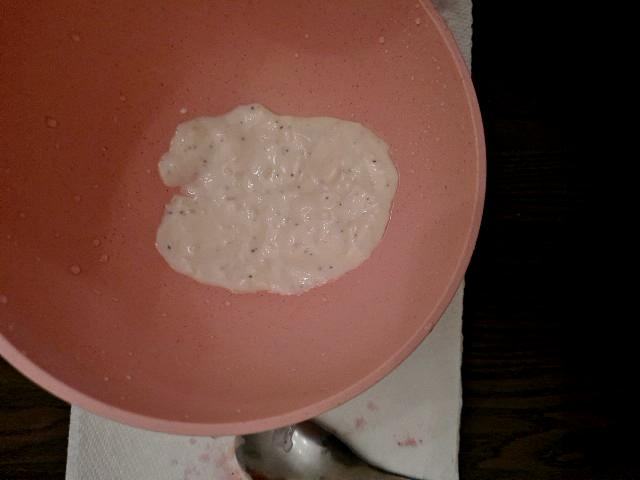kichen waste: (155, 106, 399, 294)
